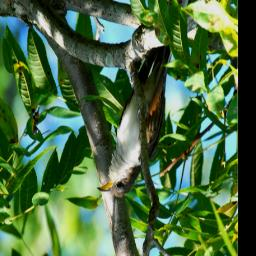Cuckoo: (97, 46, 171, 198)
